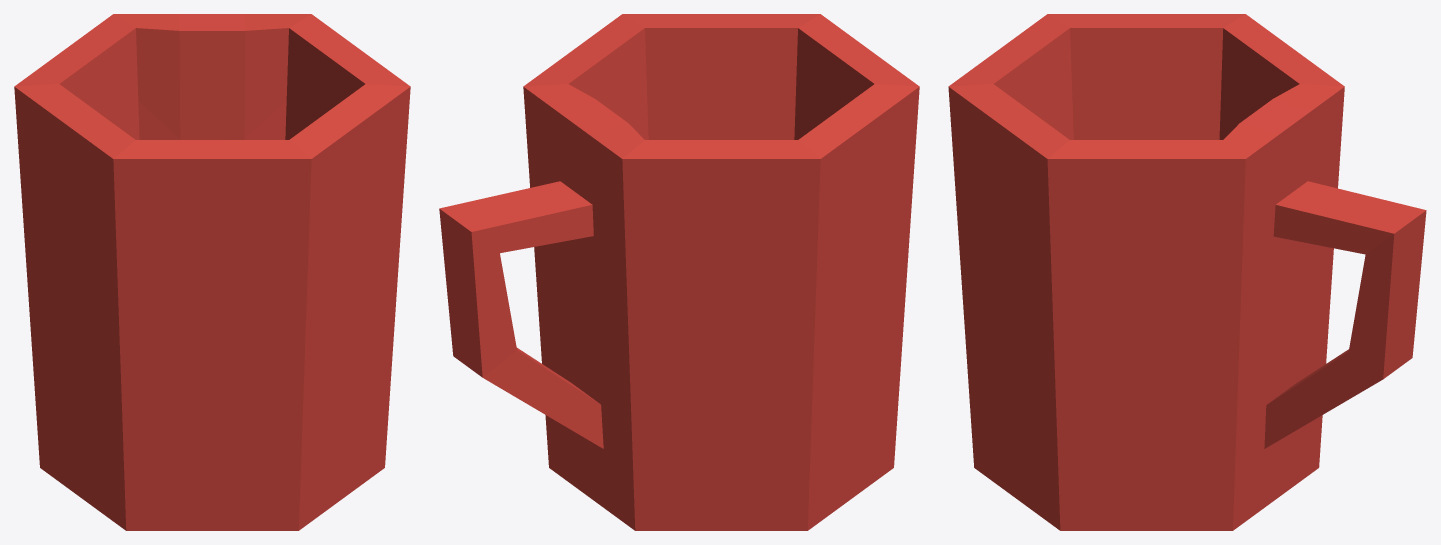
File: CAT_TEXTURED_NEWEST.fbx
3 views of the same model, side by side, from view 1: azimuth 30°, elevation 25°; view 2: azimuth 150°, elevation 25°; view 3: azimuth 270°, elevation 25° (orthographic).
Visible parts, largest first — view 1: Circle.002; view 2: Circle.002; view 3: Circle.002.
Boxes of the visible parts, x1,y1,x2,y2 form: Circle.002: [14, 14, 410, 530]; Circle.002: [439, 14, 919, 530]; Circle.002: [948, 14, 1426, 530].
Size of the model in its own units: 0.6662 by 0.7957 by 0.8983.
